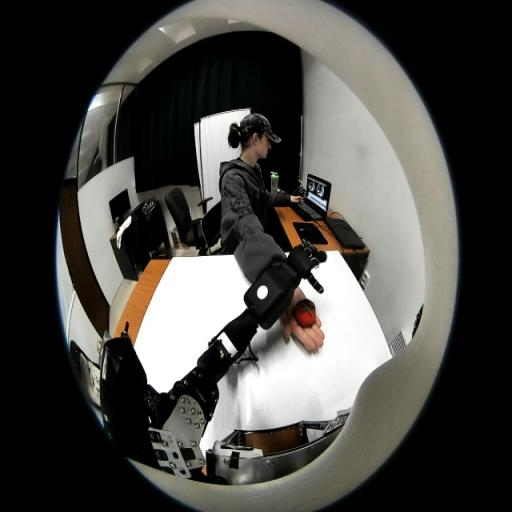LeftHand: (291, 249, 311, 268)
Tomato: (295, 298, 315, 326)
